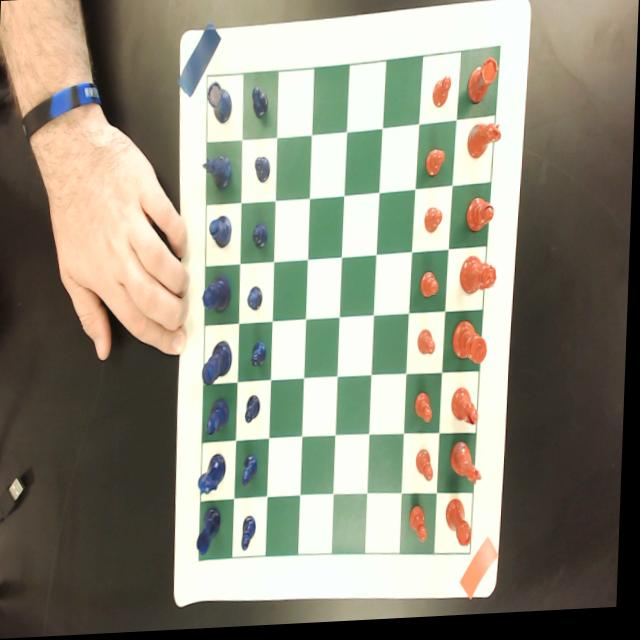B: (208, 399, 232, 437), (208, 217, 233, 252)
K: (204, 342, 235, 387)
N: (201, 455, 229, 498), (202, 154, 232, 194)
P: (251, 84, 270, 123), (244, 516, 260, 555), (244, 454, 261, 490), (254, 156, 273, 187), (246, 396, 264, 427), (252, 224, 270, 253), (252, 343, 269, 371), (249, 286, 265, 314)
Q: (204, 277, 233, 316)
R: (200, 508, 225, 556), (207, 82, 233, 128)
b: (467, 197, 496, 238), (454, 390, 481, 430)
cb: (202, 51, 500, 562)
k: (454, 323, 490, 370)
n: (452, 444, 487, 493), (467, 123, 502, 165)
p: (412, 508, 432, 549), (418, 452, 437, 488), (432, 78, 451, 113), (417, 395, 436, 428), (426, 151, 446, 182), (418, 333, 438, 360), (425, 210, 444, 238), (422, 274, 440, 302)
q: (461, 258, 498, 300)
r: (467, 60, 499, 109), (447, 502, 477, 553)
